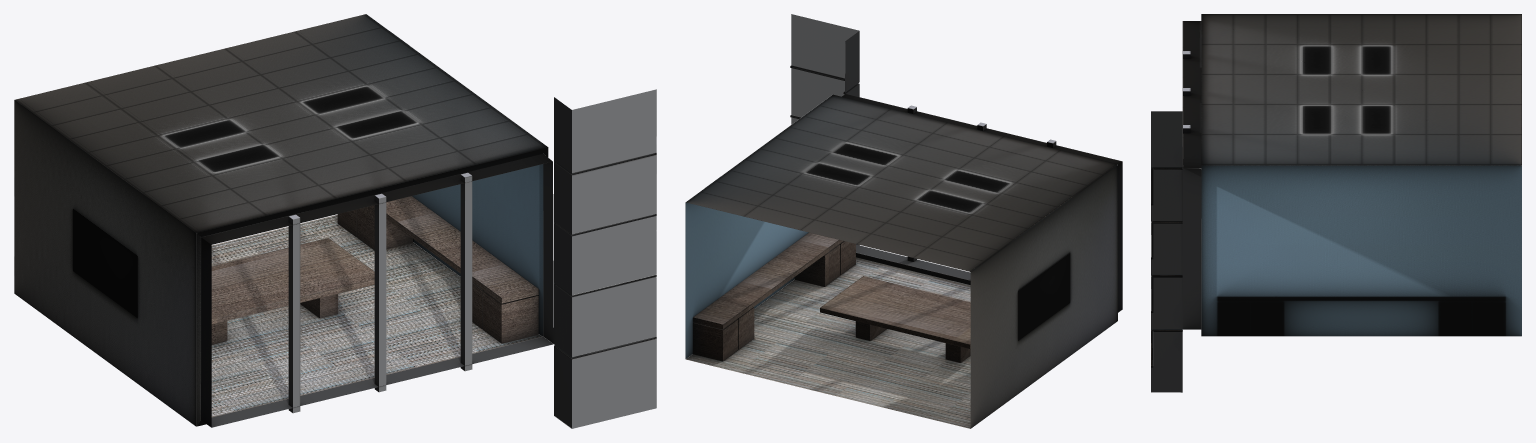
File: room2026.glb
3 renders of one model, left to right at view 1: azimuth 30°, elevation 25°; view 2: azimuth 150°, elevation 25°; view 3: azimuth 270°, elevation 25°, orthographic. The views are drawn at different scales.
Visible parts, largest first — view 1: room_1; view 2: room_1; view 3: room_1.
Boxes of the visible parts, left/top/right/bottom form: room_1: left=14, top=14, right=656, bottom=428; room_1: left=685, top=14, right=1122, bottom=428; room_1: left=1151, top=14, right=1521, bottom=392.
Size of the model in its own units: 7.1 by 5.02 by 5.99.
1 material, 1 textured.
